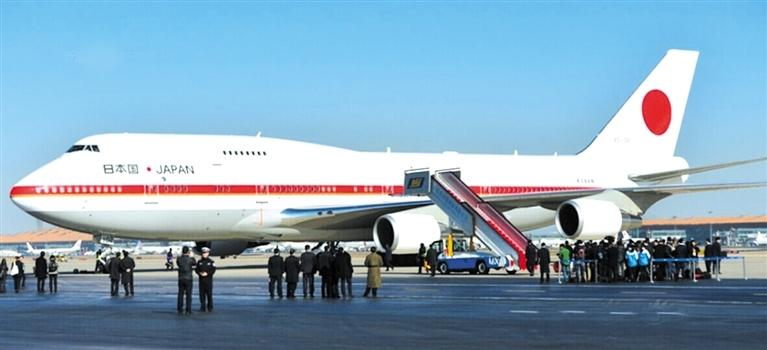airplane: (10, 49, 757, 246)
